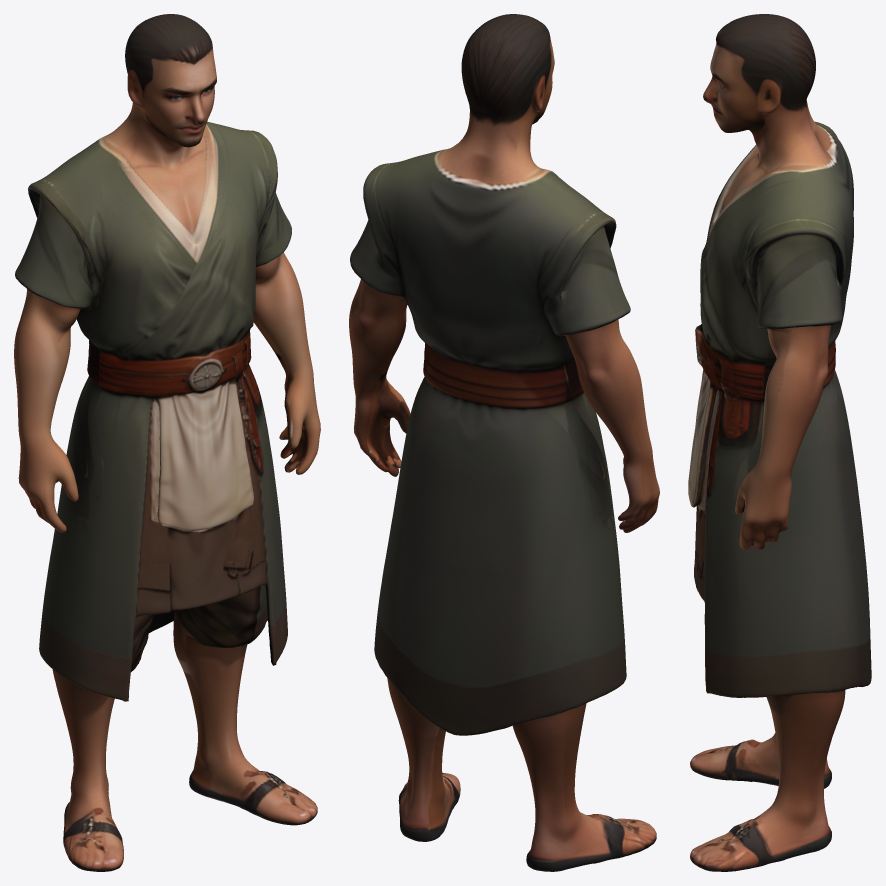
Rendered from ancient_character.glb.
3 renders of one model, left to right at view 1: azimuth 30°, elevation 25°; view 2: azimuth 150°, elevation 25°; view 3: azimuth 270°, elevation 25°, orthographic. The views are drawn at different scales.
Parts seen in each view (by area): view 1: model_0; view 2: model_0; view 3: model_0.
Part boxes in pixels (box(x1,y1,x2,y2)): model_0: box(14, 14, 320, 871); model_0: box(349, 14, 659, 871); model_0: box(688, 14, 871, 871).
Bounding box in the file's own units: 0.3782 × 1 × 0.2084.
Materials: 1 (1 with a texture image).
